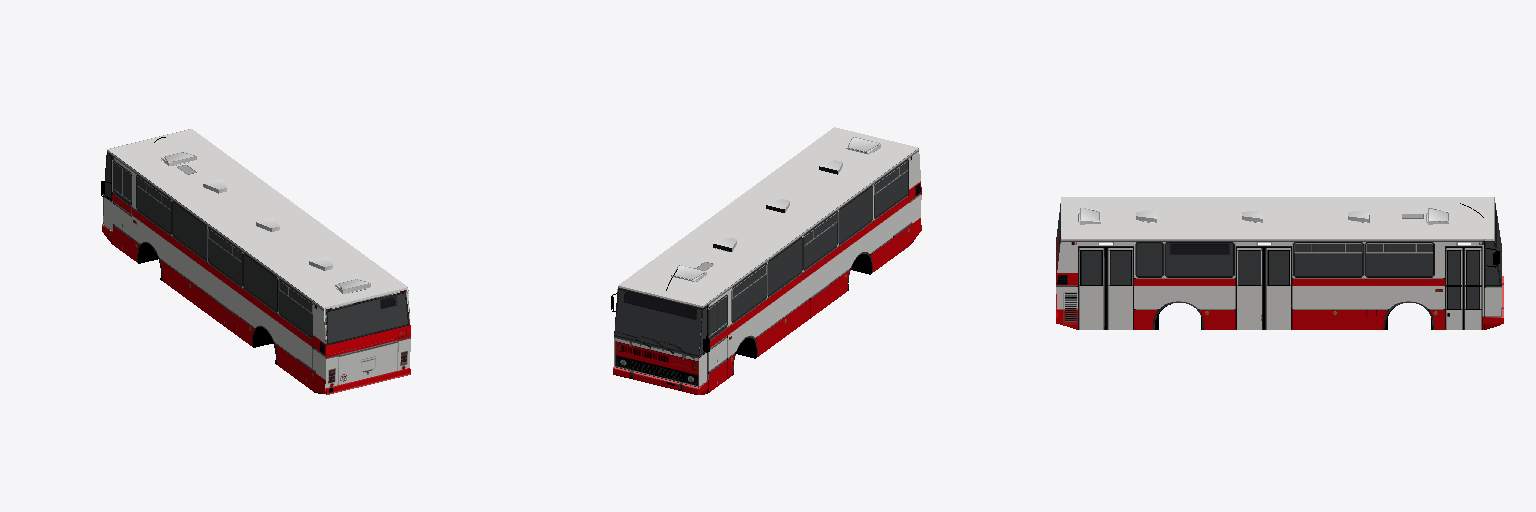
3 renders of one model, left to right at view 1: azimuth 30°, elevation 25°; view 2: azimuth 150°, elevation 25°; view 3: azimuth 270°, elevation 25°, orthographic.
Visible parts, largest first — view 1: Box009; view 2: Box009; view 3: Box009.
Part boxes in pixels (x1,y1,x2,y2): Box009: (101,129,410,394); Box009: (611,127,921,394); Box009: (1056,197,1503,329).
Size of the model in its own units: 3.18 by 3.3 by 12.64.
1 materials, 1 textured.